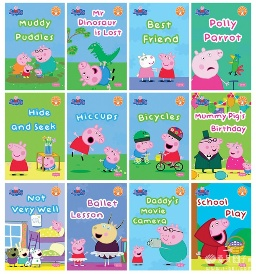Peppa: (195, 217, 231, 265), (67, 126, 103, 160), (5, 139, 29, 177), (160, 128, 181, 167), (66, 236, 89, 269), (155, 53, 178, 83), (130, 244, 146, 266), (20, 64, 31, 80)
